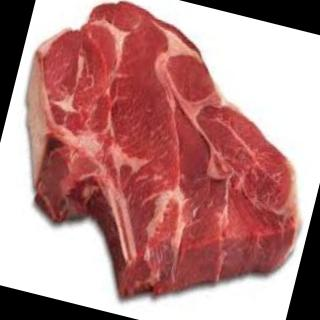Daging Sapi: (1, 1, 320, 320)
